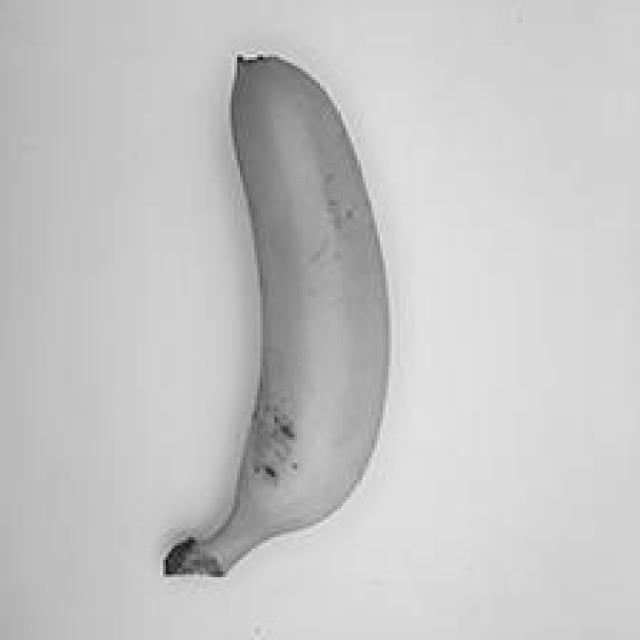Unripe: (148, 33, 404, 614)
